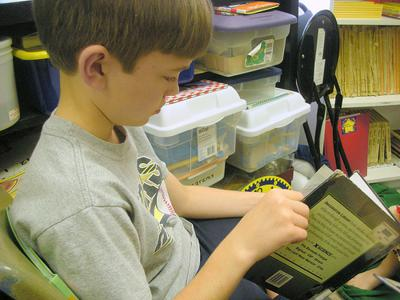person: (7, 1, 314, 300)
